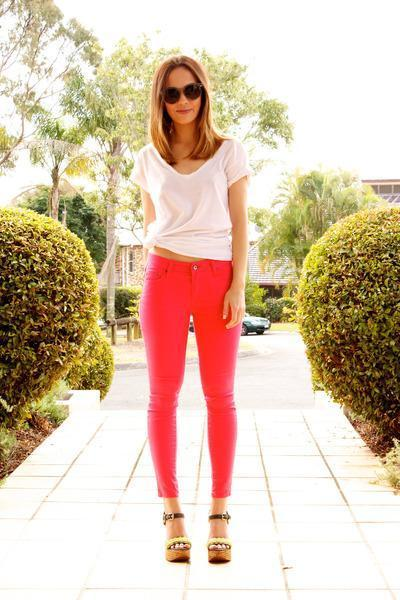pants: (145, 255, 239, 498)
shirt: (132, 132, 249, 260)
shoe: (167, 521, 230, 563)
sunglass: (158, 70, 180, 107)
